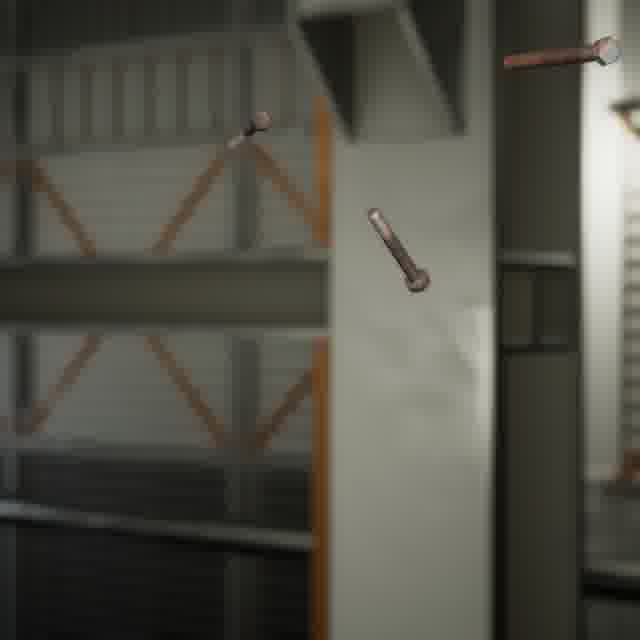bolt: (362, 203, 435, 297), (498, 32, 623, 75), (221, 106, 276, 155)
